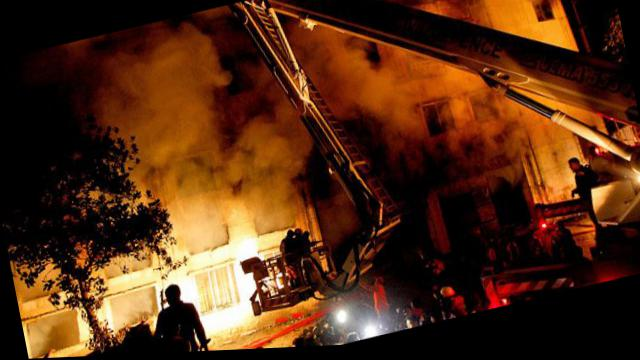smoke: (110, 9, 258, 181), (241, 62, 296, 231), (354, 39, 418, 160), (406, 54, 462, 178), (171, 160, 234, 254), (318, 34, 366, 114), (444, 65, 486, 156), (476, 91, 514, 164), (222, 154, 266, 214), (296, 22, 326, 89)
